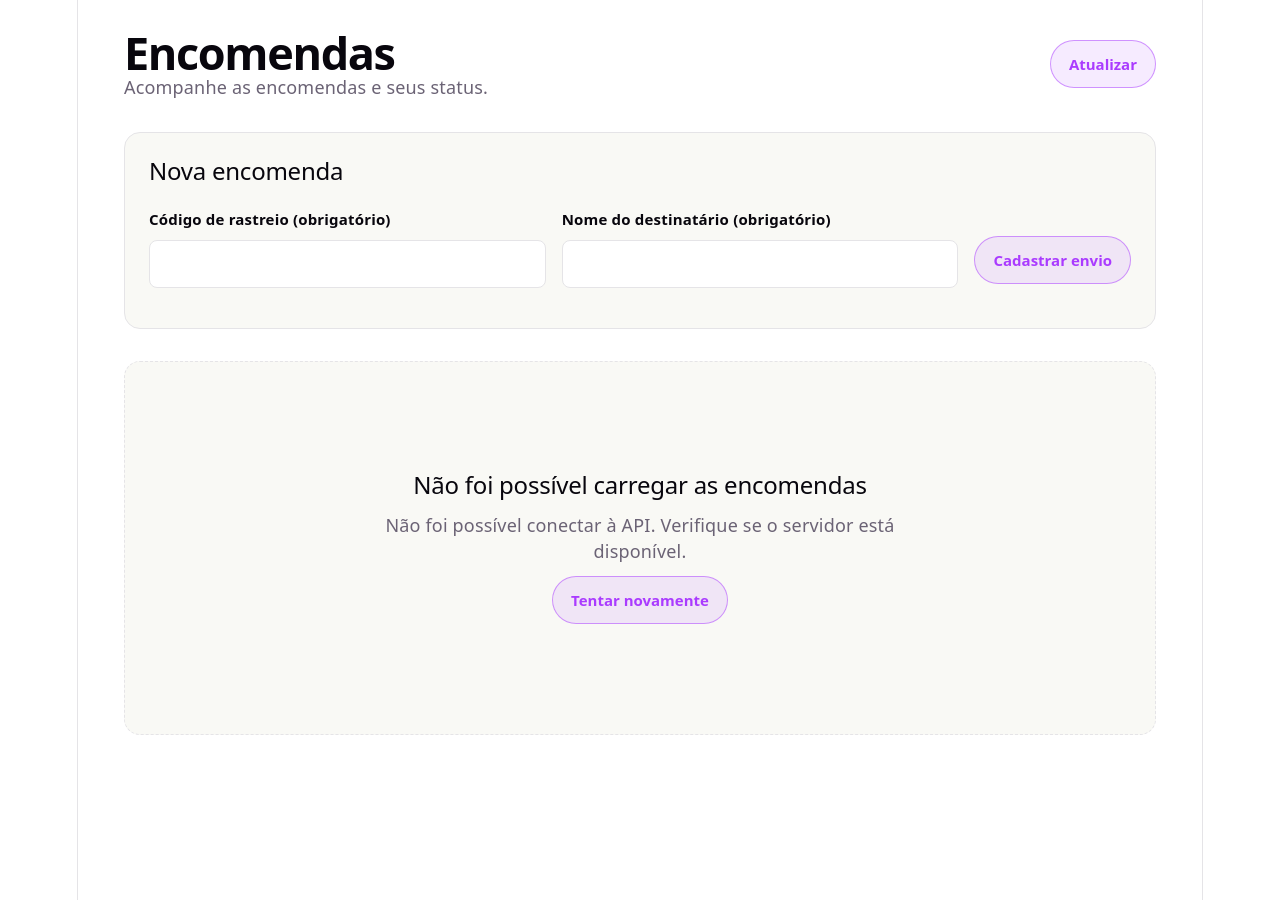
Test case: fluxos da página › mostra falha inicial e permite tentar novamente
Expected: the message shows "Não foi possível conectar", [385,513,894,563]
Click the button "Tentar novamente": (640, 600) [552,576,728,624]
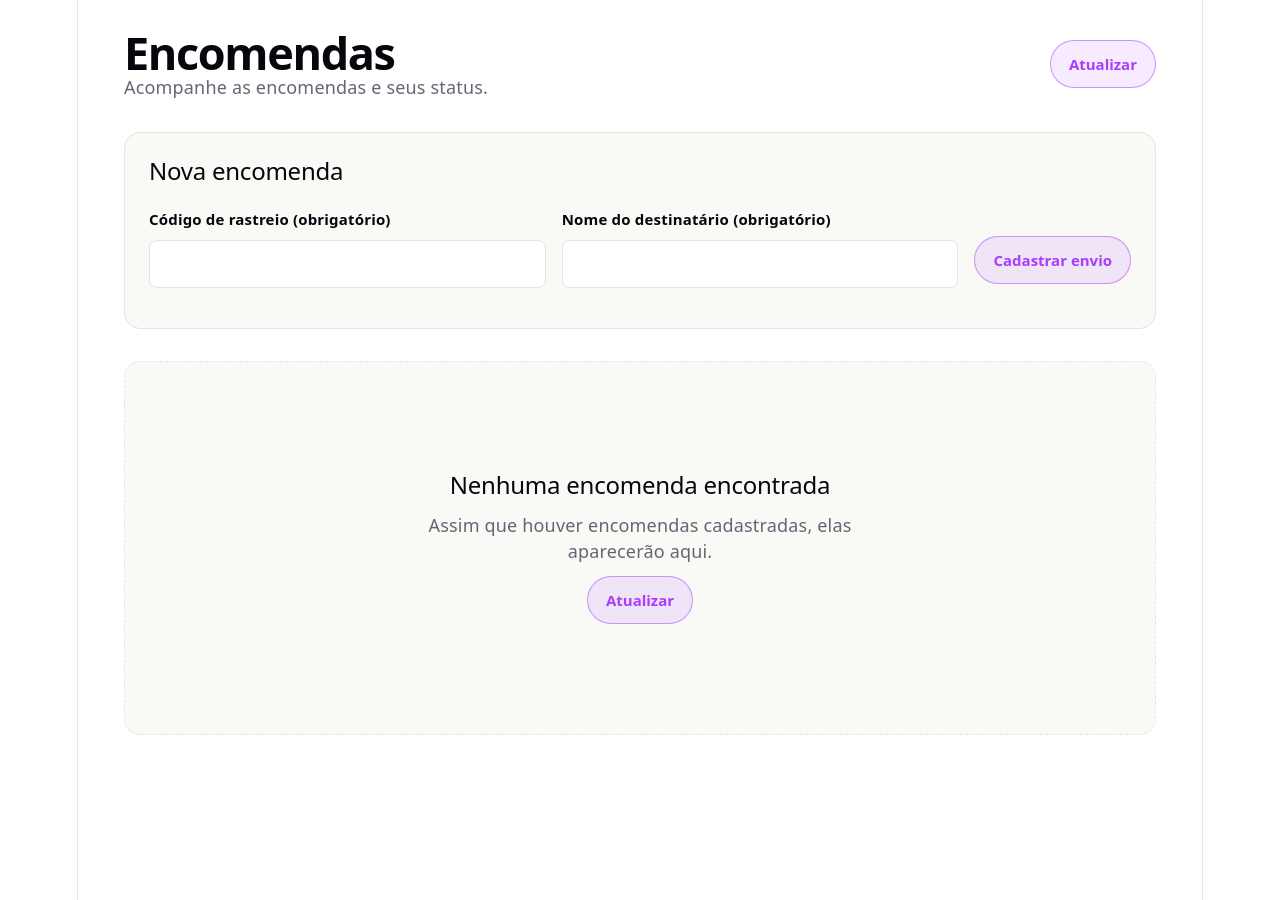
Expected: the heading "Nenhuma encomenda encontrada" is shown, [450,471,830,500]
